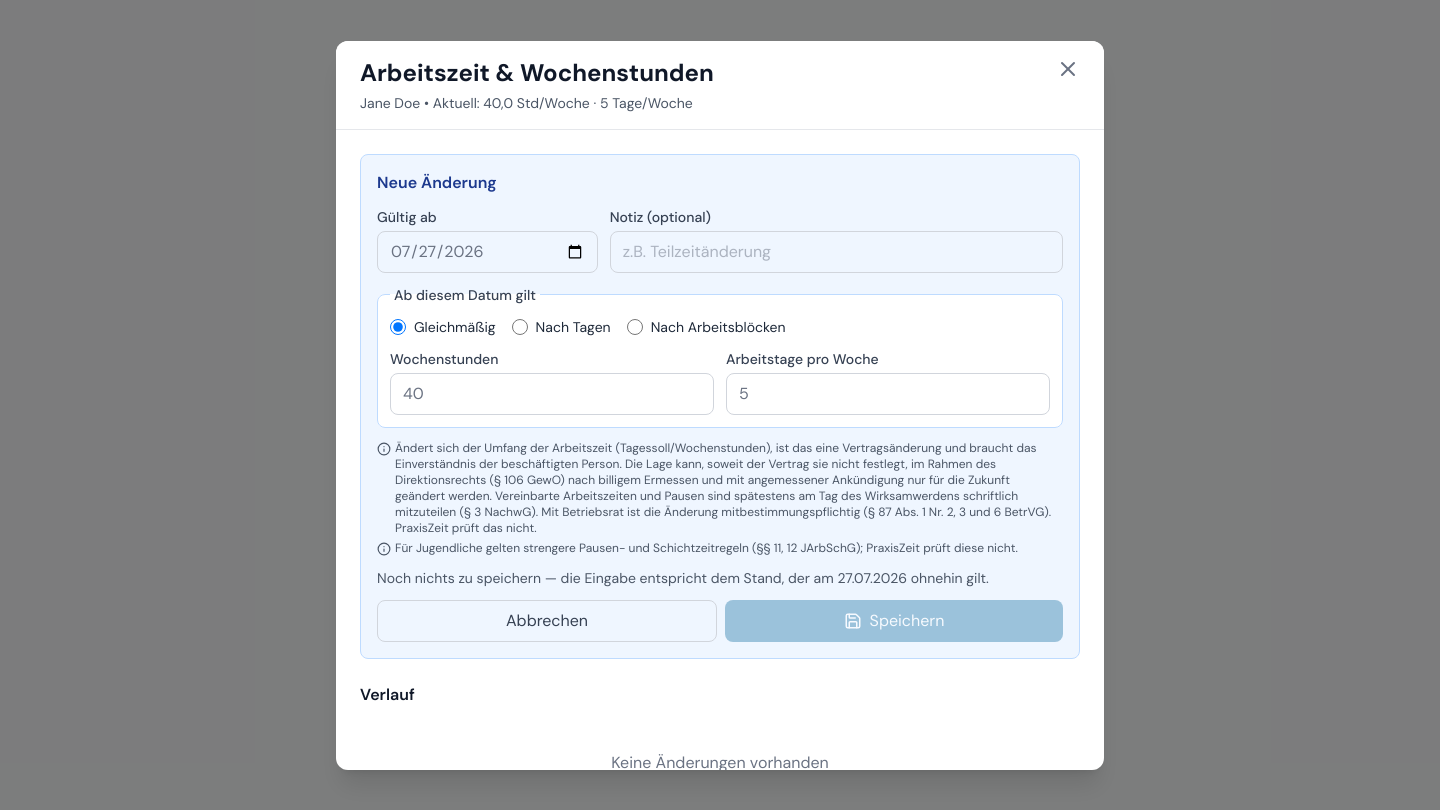
Test case: M1: "heute" ist das LOKALE Datum, nicht das UTC-Datum › behandelt den lokalen Vortag als rückwirkend (Bestätigung wird erzwungen)
This screenshot has width=1440, height=810.
Check: the text "Keine Änderungen vorhanden" is shown, box left=611, top=752, right=829, bottom=770
Step 1. Type "2026-07-26" into the date field labelled "Gültig ab" → (487,252), box left=377, top=230, right=598, bottom=272
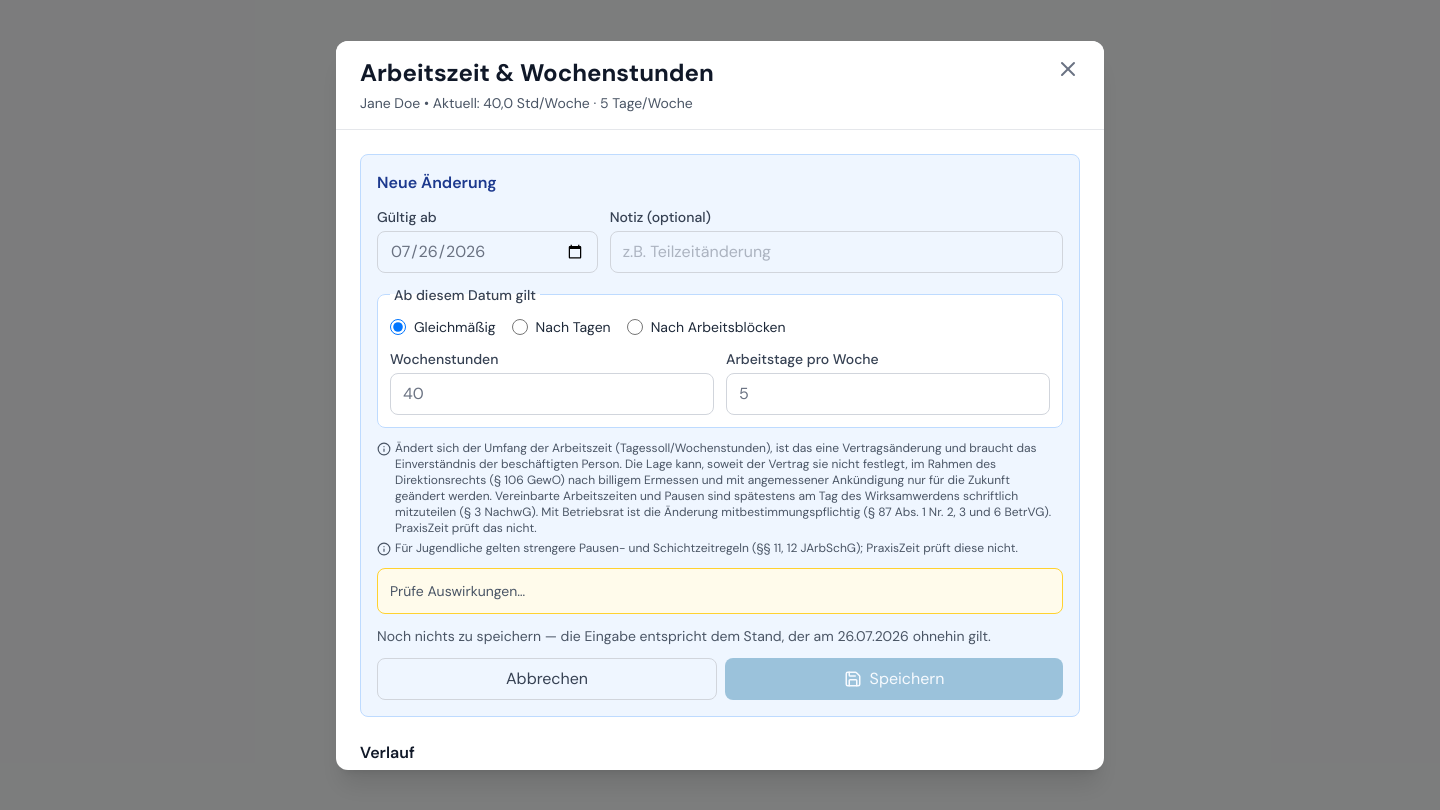
Step 2. Replace the text in the number field labelled "Wochenstunden" with "20" → (552,394), box left=390, top=372, right=714, bottom=414
(page scrolled)
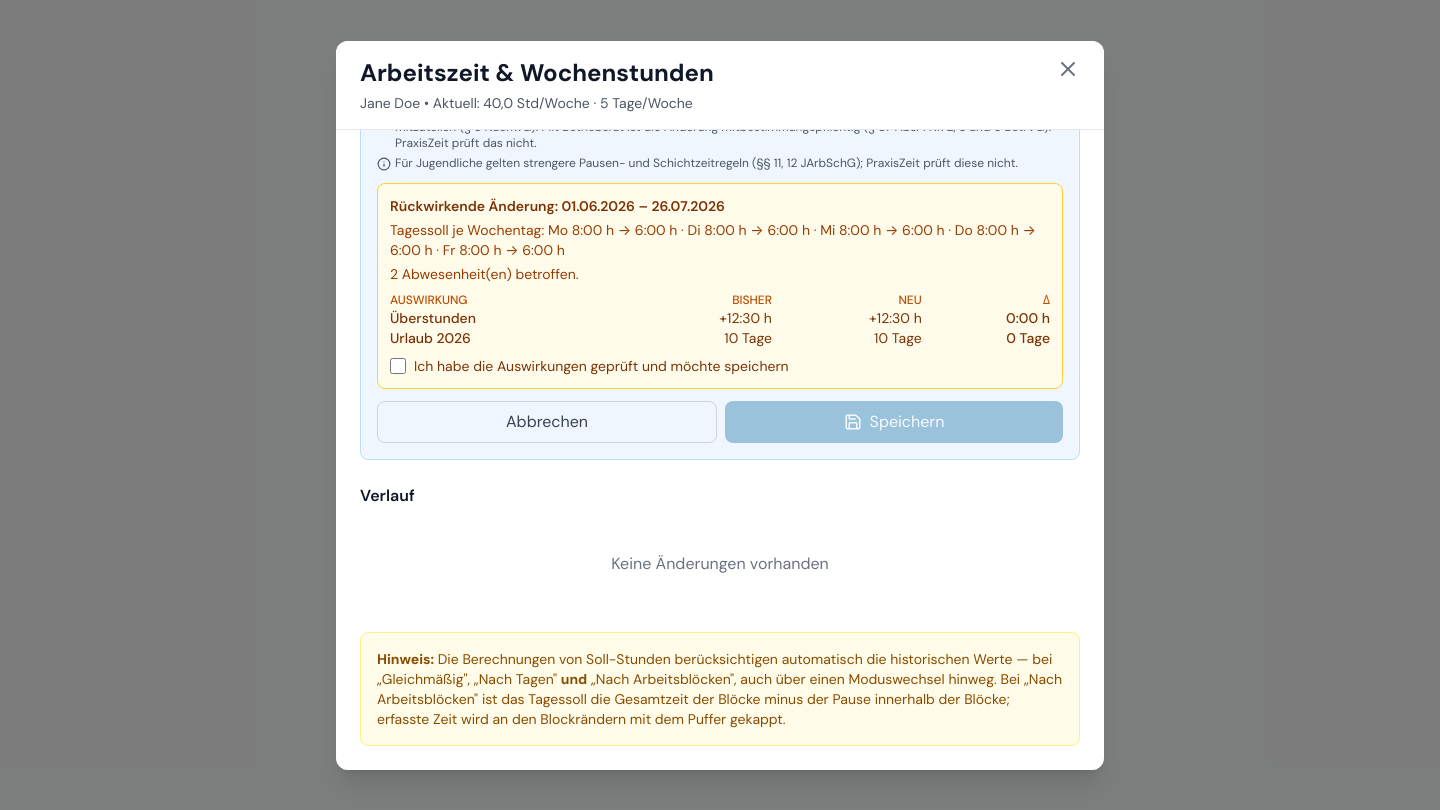
Check: the button "Speichern" is disabled, box left=725, top=400, right=1063, bottom=442
Check: the text "2 Abwesenheit(en) betroffen." is shown, box left=390, top=264, right=579, bottom=282
